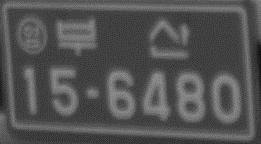-: (83, 86, 101, 101)
0: (210, 72, 242, 125)
1: (20, 65, 42, 117)
4: (141, 70, 172, 122)
5: (48, 66, 79, 117)
6: (105, 68, 138, 121)
8: (175, 71, 207, 124)
부산_D: (55, 16, 191, 61)
영: (16, 16, 49, 56)
